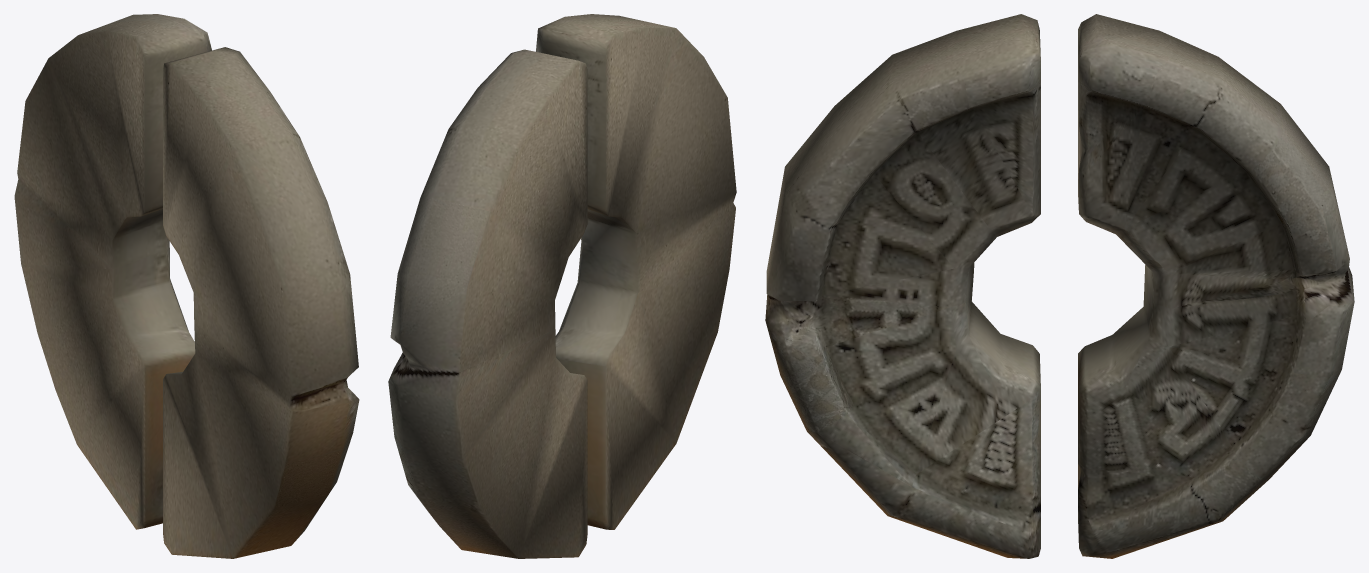
The model's file is moonstone.glb.
3 renders of one model, left to right at view 1: azimuth 30°, elevation 25°; view 2: azimuth 150°, elevation 25°; view 3: azimuth 270°, elevation 25°, orthographic. The views are drawn at different scales.
Parts seen in each view (by area): view 1: tripo_node_9c547e1b-d603-40a1-9982-6769d2106c44; view 2: tripo_node_9c547e1b-d603-40a1-9982-6769d2106c44; view 3: tripo_node_9c547e1b-d603-40a1-9982-6769d2106c44.
Part boxes in pixels (x1=…): tripo_node_9c547e1b-d603-40a1-9982-6769d2106c44: x1=14, y1=14, x2=359, y2=558; tripo_node_9c547e1b-d603-40a1-9982-6769d2106c44: x1=388, y1=14, x2=736, y2=558; tripo_node_9c547e1b-d603-40a1-9982-6769d2106c44: x1=765, y1=14, x2=1354, y2=558.
Bounding box in the file's own units: 0.1543 × 0.9707 × 0.998.
1 material, 1 textured.
